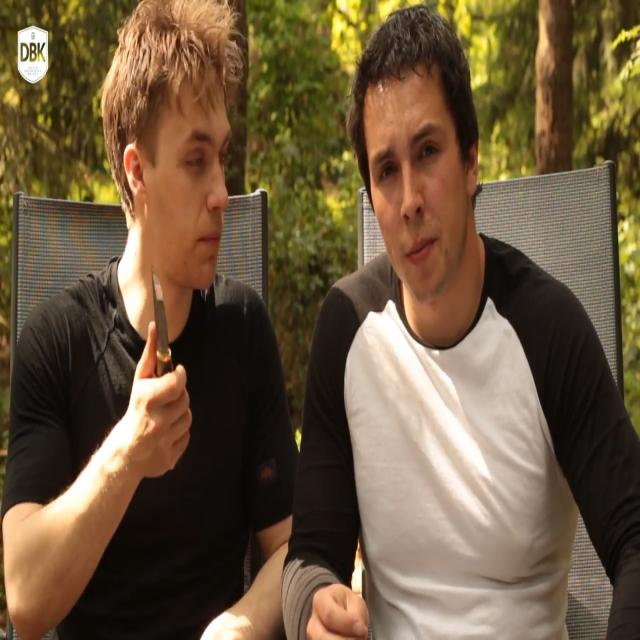knife: (148, 258, 177, 373)
